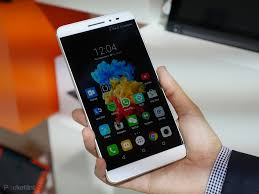lenovo: (57, 9, 186, 184)
